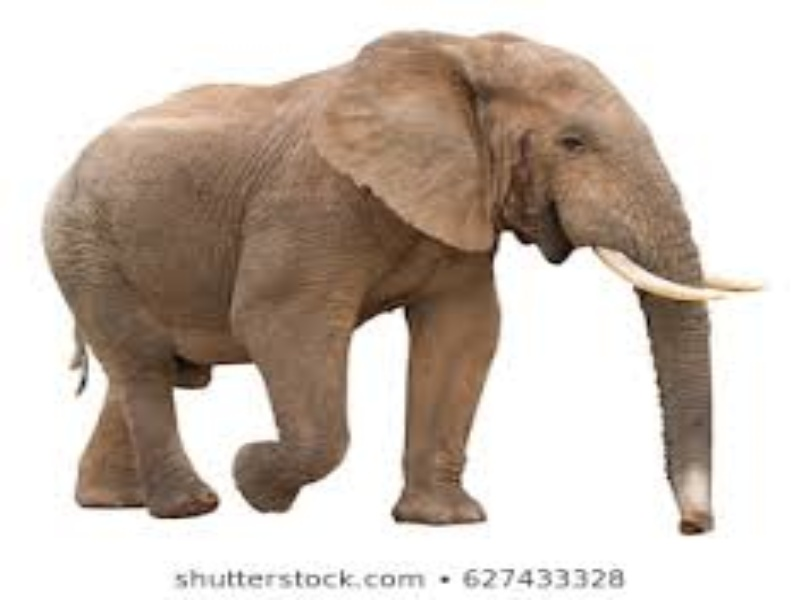elephant: (49, 22, 736, 549)
